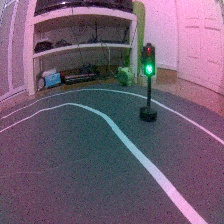green: (138, 42, 163, 125)
